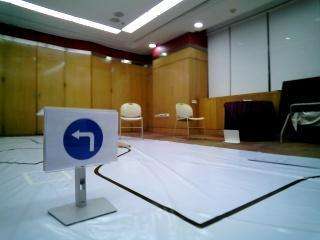left: (48, 116, 110, 163)
